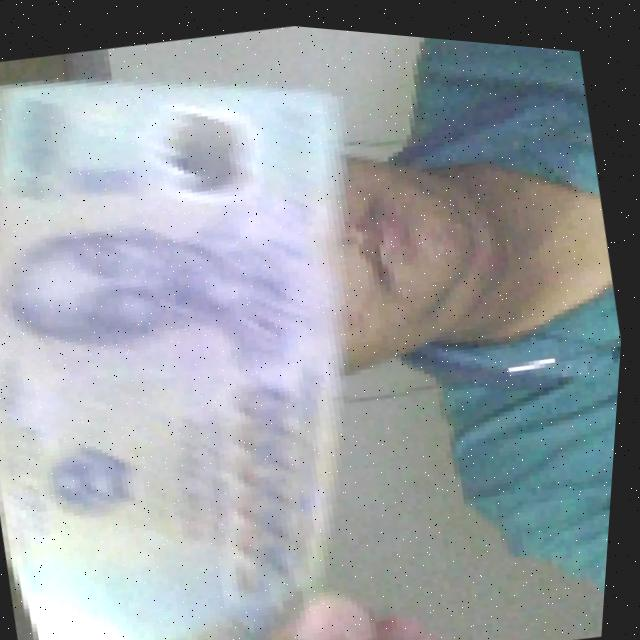200 000 VND: (0, 9, 468, 640)
